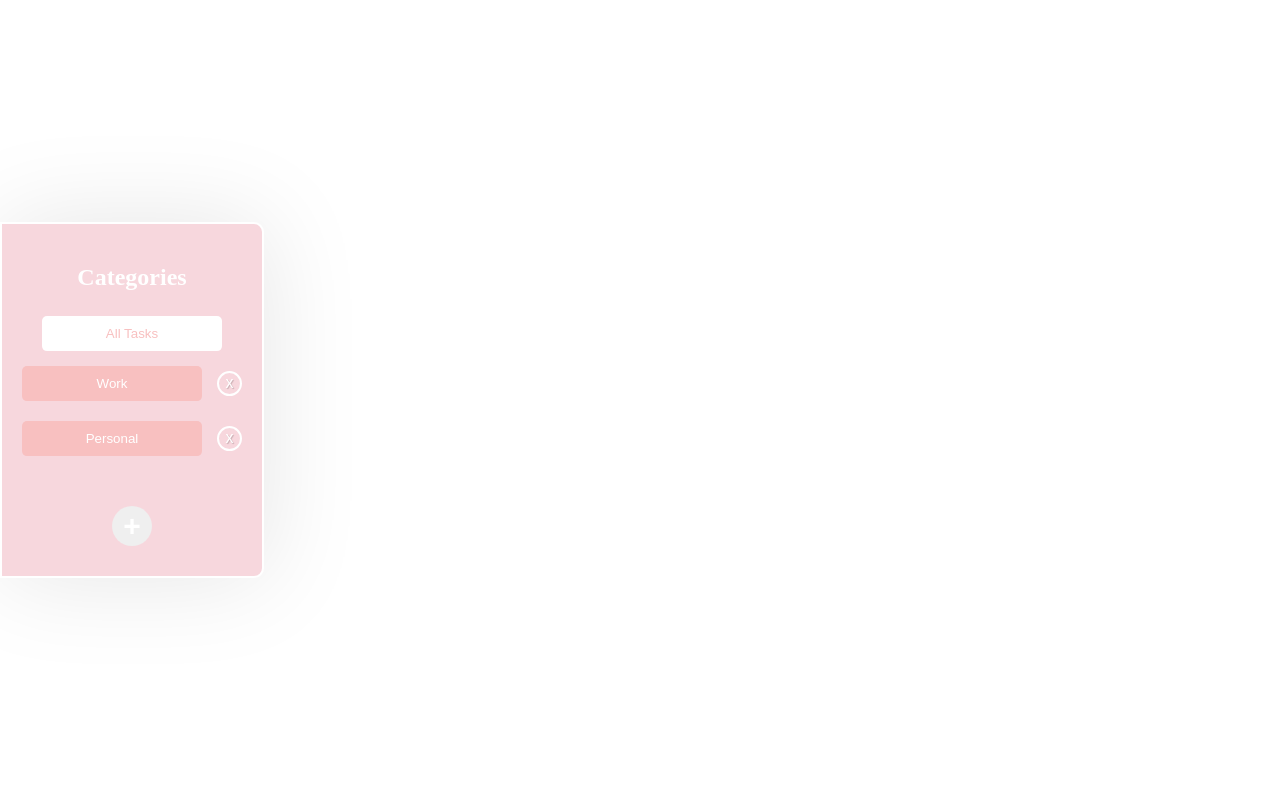
Test case: CategorySidenav Component › cancels deleting a category
The image size is (1280, 800).
Click the button with test id "delete-category-1" at (230, 383), box [217, 371, 242, 396]
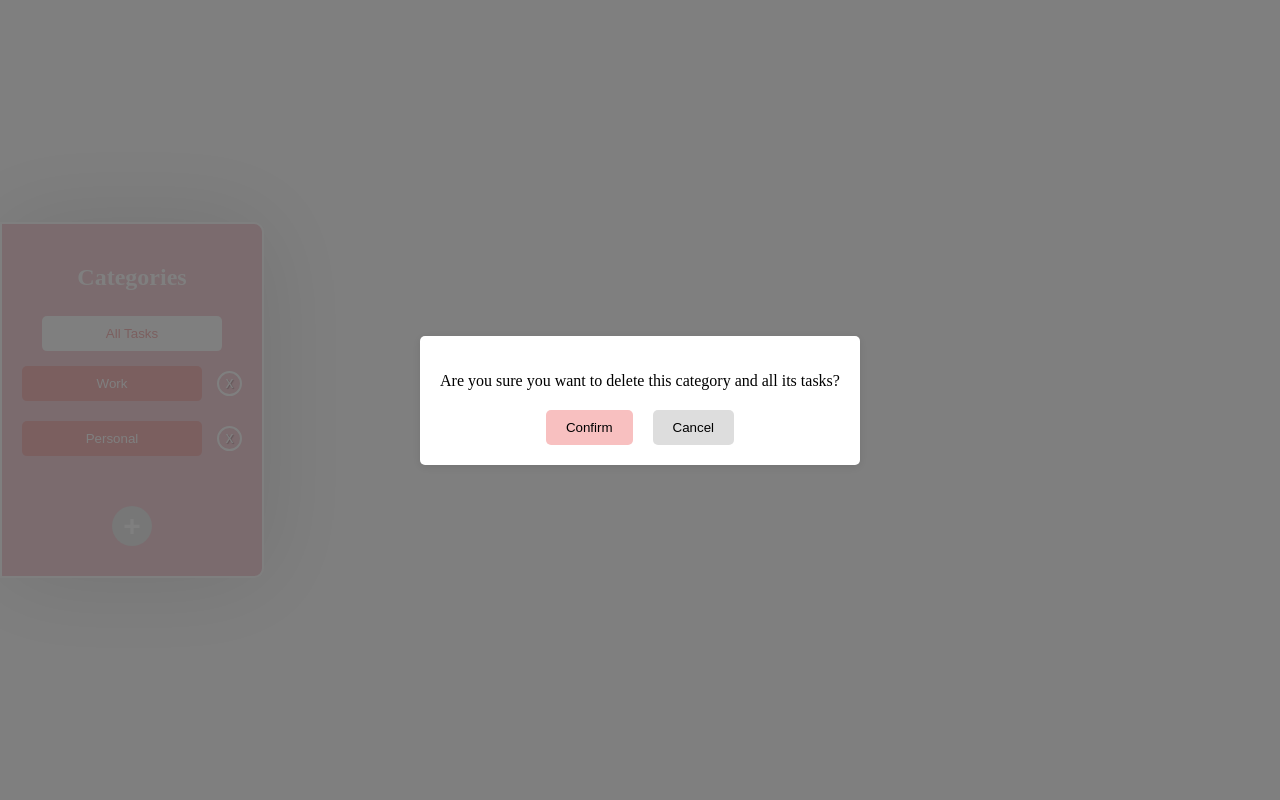
Click the button "Cancel" at (693, 427), box [653, 410, 734, 444]
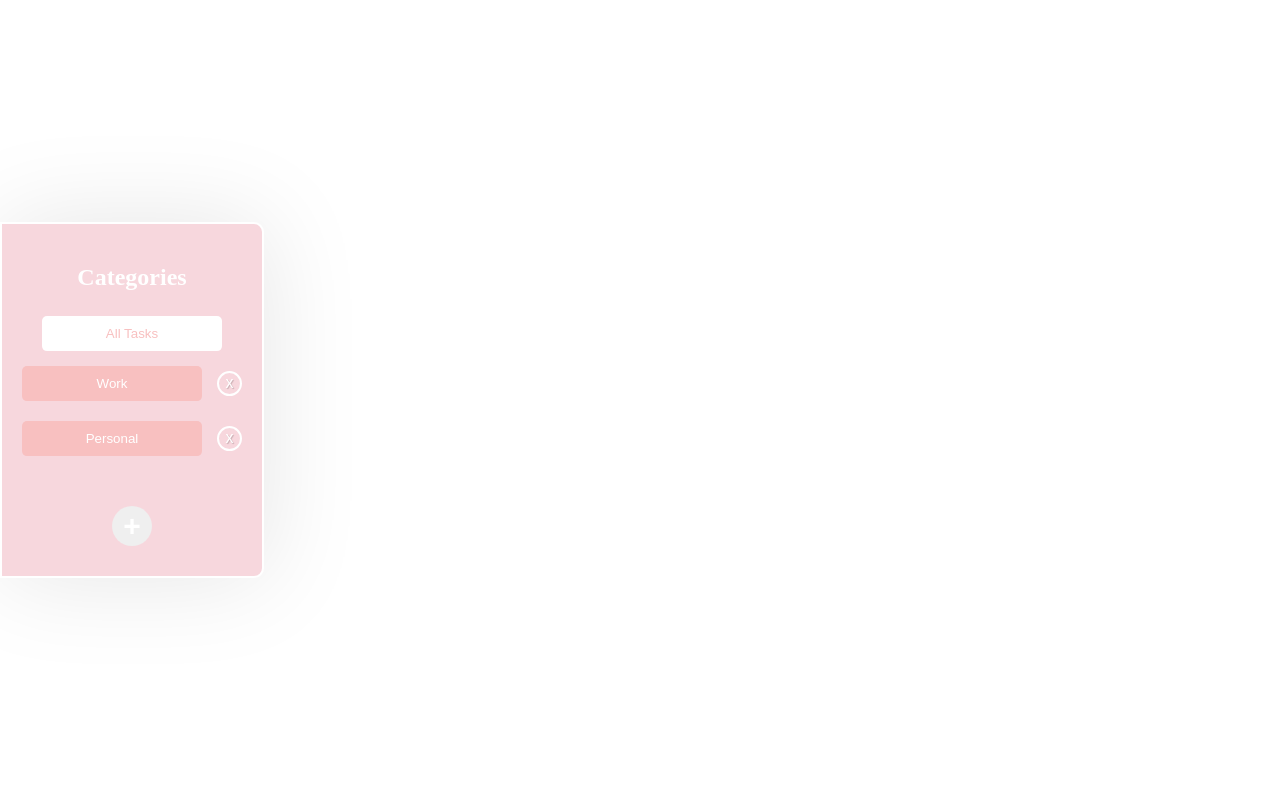
Check: the text "Are you sure you want to delete this category and all its tasks?" is gone
